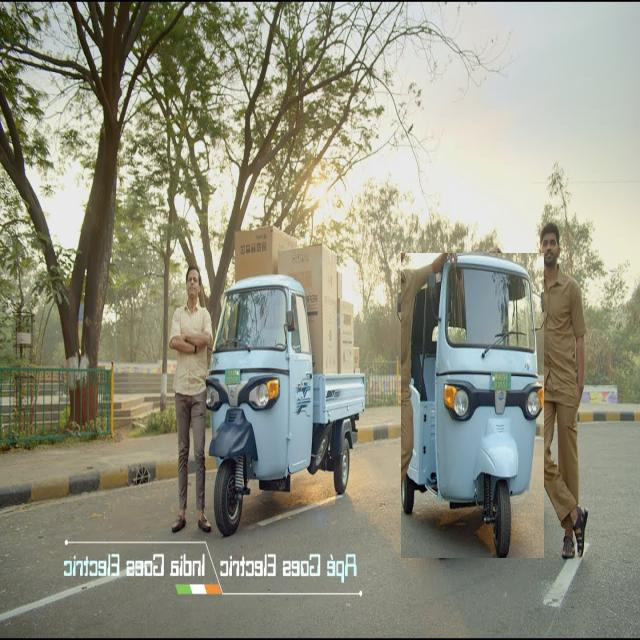autorickshaw: (401, 253, 544, 558), (206, 276, 365, 536)
